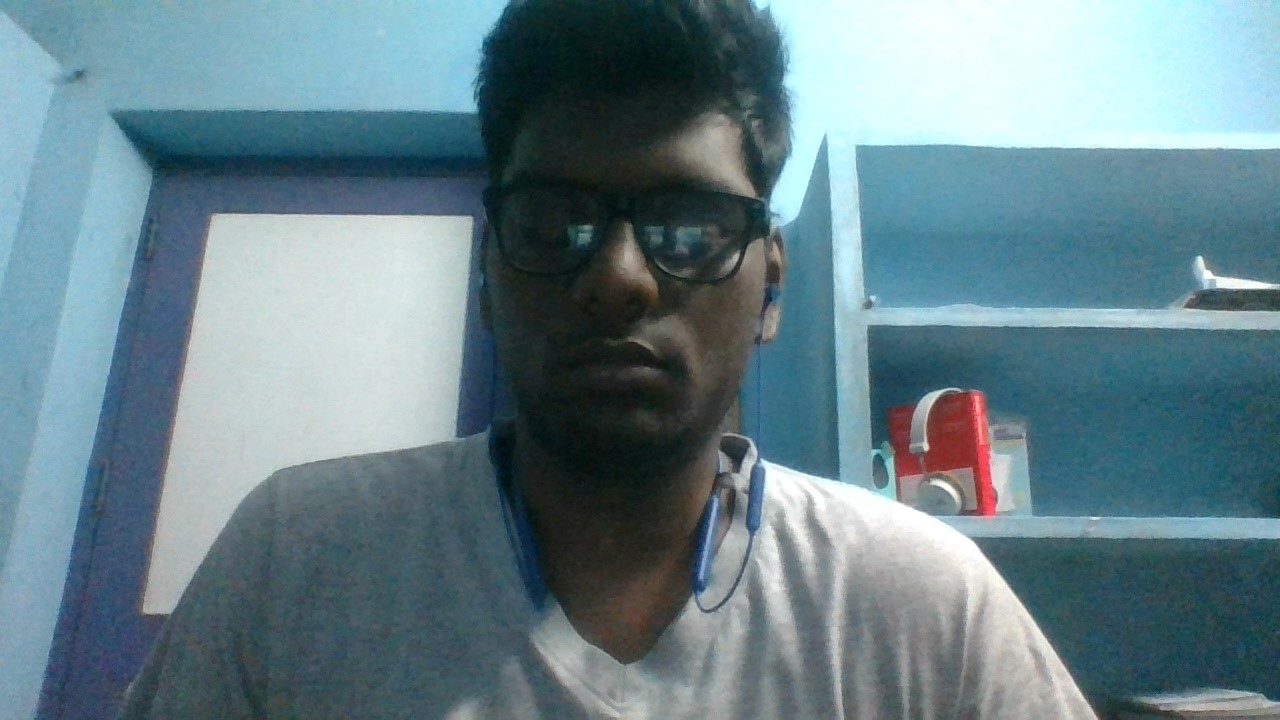person: (178, 4, 1098, 720)
